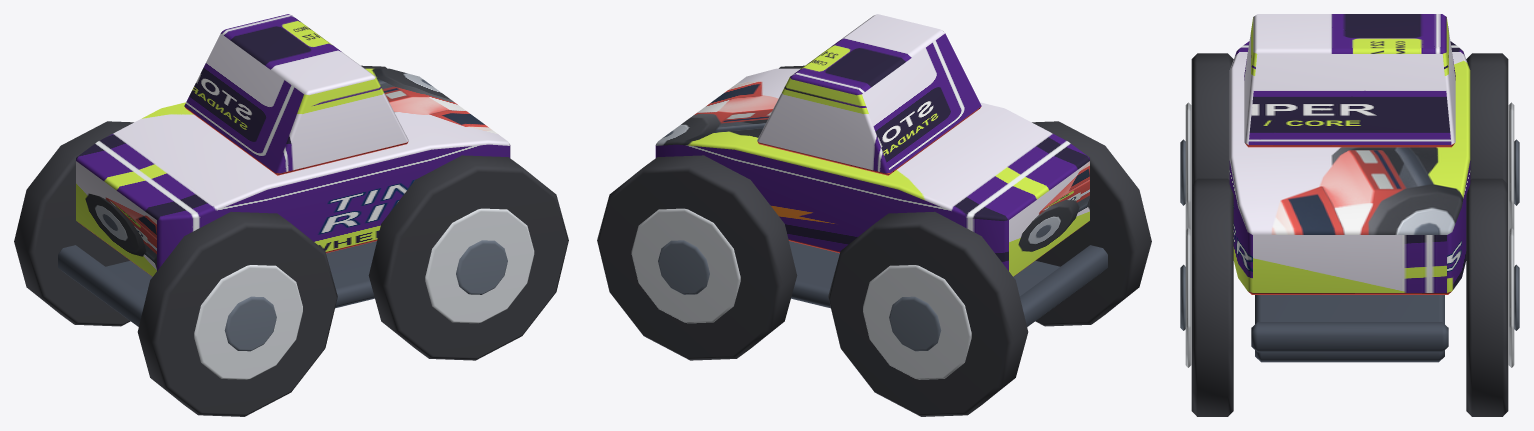
3 renders of one model, left to right at view 1: azimuth 30°, elevation 25°; view 2: azimuth 150°, elevation 25°; view 3: azimuth 270°, elevation 25°, orthographic. The views are drawn at different scales.
Parts seen in each view (by area): view 1: BW-03_connected_shell, BW-03_cabin, Tire.002, Tire, Tire.001, Rim.002, Rim, underbody, front bumper, Hub.002, Hub; view 2: BW-03_connected_shell, BW-03_cabin, Tire.003, Tire.001, Tire, Rim.003, Rim.001, underbody, front bumper, Hub.003, Hub.001; view 3: BW-03_connected_shell, BW-03_cabin, Tire.002, Tire.003, underbody, rear bumper, Tire, Tire.001, Rim.002, Rim.003, Rim, Rim.001 (+4 smaller).
Boxes of the visible parts, x1,y1,x2,y2 form: BW-03_connected_shell: (76,68,510,276); BW-03_cabin: (184,14,408,175); Tire.002: (368,155,568,360); Tire: (137,211,337,416); Tire.001: (14,121,133,326); Rim.002: (425,208,534,323); Rim: (194,265,302,379); underbody: (105,241,376,308); front bumper: (58,245,145,326); Hub.002: (456,240,507,294); Hub: (224,296,276,351); BW-03_connected_shell: (655,68,1089,276); BW-03_cabin: (757,14,981,175); Tire.003: (597,155,797,360); Tire.001: (828,211,1028,416); Tire: (1032,121,1151,326); Rim.003: (631,208,740,323); Rim.001: (863,265,971,379); underbody: (789,241,1060,308); front bumper: (1020,245,1107,326); Hub.003: (658,240,709,294); Hub.001: (889,296,941,351); BW-03_connected_shell: (1229,41,1470,294); BW-03_cabin: (1244,14,1455,147); Tire.002: (1191,178,1233,416); Tire.003: (1466,178,1508,416); underbody: (1255,295,1444,362); rear bumper: (1251,322,1448,352); Tire: (1191,53,1233,183); Tire.001: (1466,53,1508,183); Rim.002: (1185,228,1191,367); Rim.003: (1508,228,1514,367); Rim: (1185,102,1191,229); Rim.001: (1508,102,1514,229).
Bounding box in the file's own units: 331 × 216 × 210.
